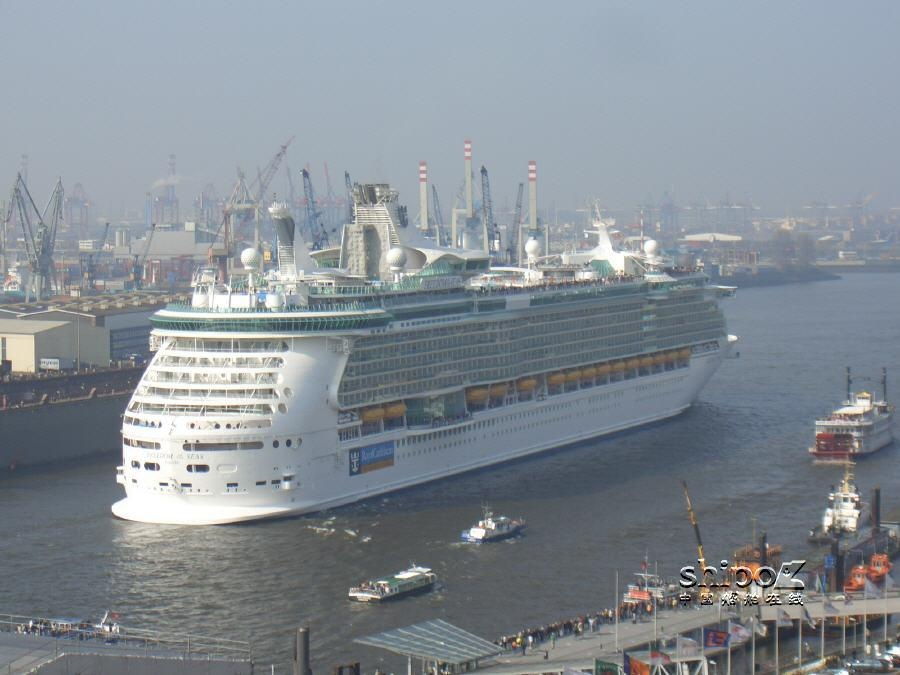otherboat: (346, 559, 440, 611), (463, 505, 533, 549)
youlun: (110, 180, 748, 525), (806, 376, 896, 458)
